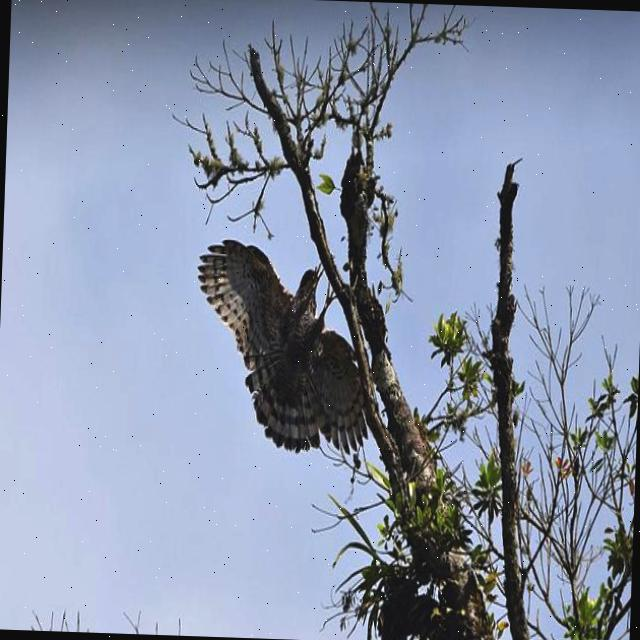Elang Jawa: (166, 202, 396, 470)
